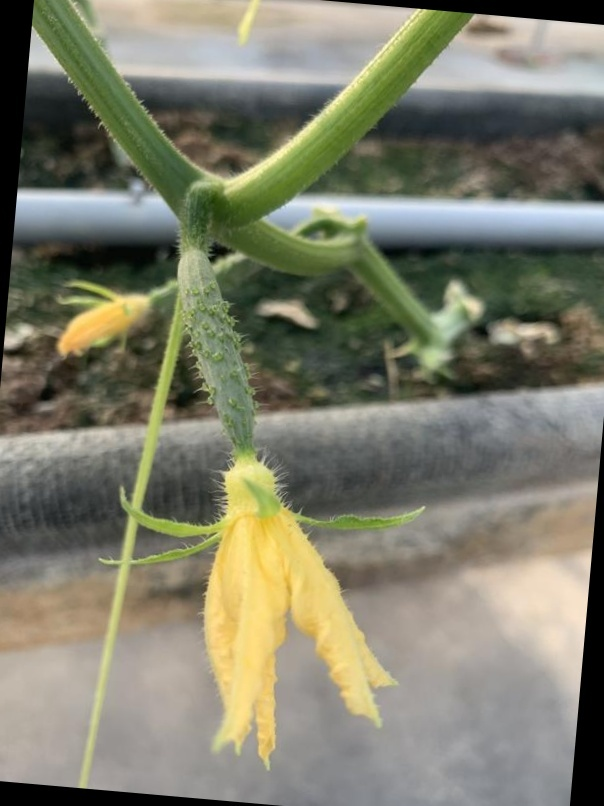bear: (135, 238, 423, 750)
